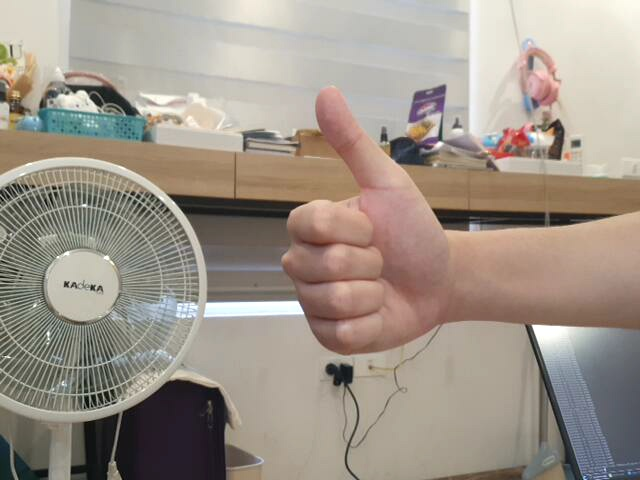ThumbsUp: (278, 83, 455, 357)
